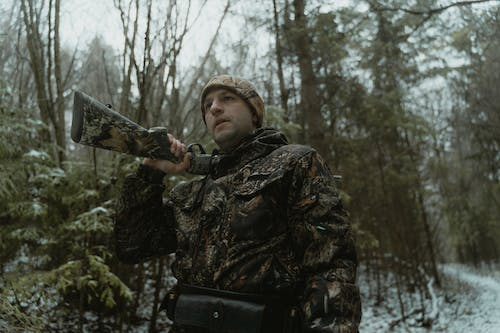gun: (69, 89, 344, 183)
